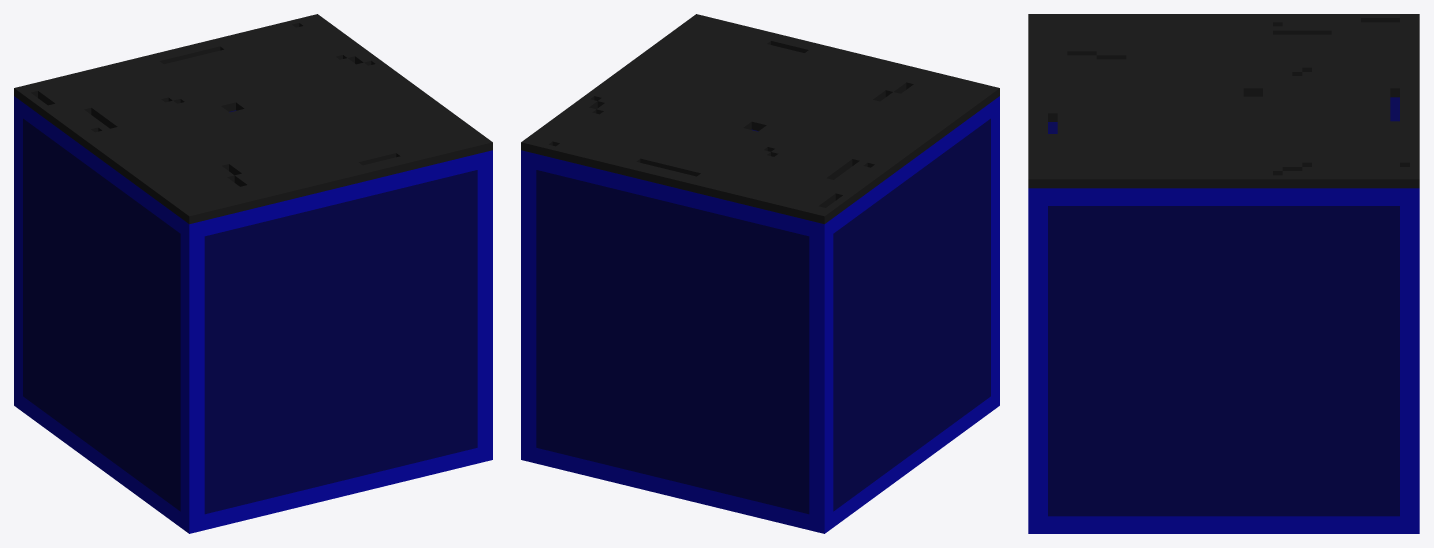
File: bloqueGiro.obj
The picture shows the model from 3 angles, left to right: view 1: azimuth 30°, elevation 25°; view 2: azimuth 150°, elevation 25°; view 3: azimuth 270°, elevation 25°; orthographic projection. The views are drawn at different scales.
Size of the model in its own units: 4 by 4 by 4.
1 material, 1 textured.
